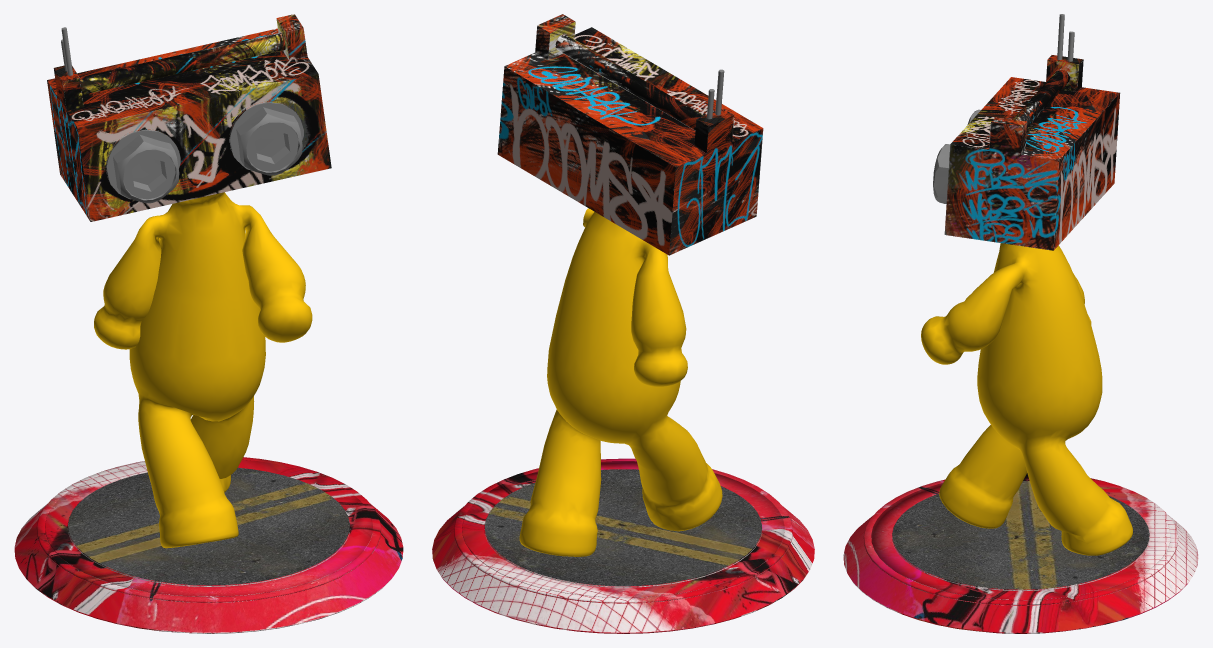
The picture shows the model from 3 angles, left to right: view 1: azimuth 30°, elevation 25°; view 2: azimuth 150°, elevation 25°; view 3: azimuth 270°, elevation 25°; orthographic projection. The views are drawn at different scales.
Parts seen in each view (by area): view 1: BBody; view 2: BBody; view 3: BBody.
Boxes of the visible parts, x1=… form: BBody: x1=14, y1=14, x2=403, y2=633; BBody: x1=432, y1=14, x2=814, y2=633; BBody: x1=843, y1=14, x2=1198, y2=633.
Size of the model in its own units: 1.45 by 2.2 by 1.45.
5 materials, 3 textured.
